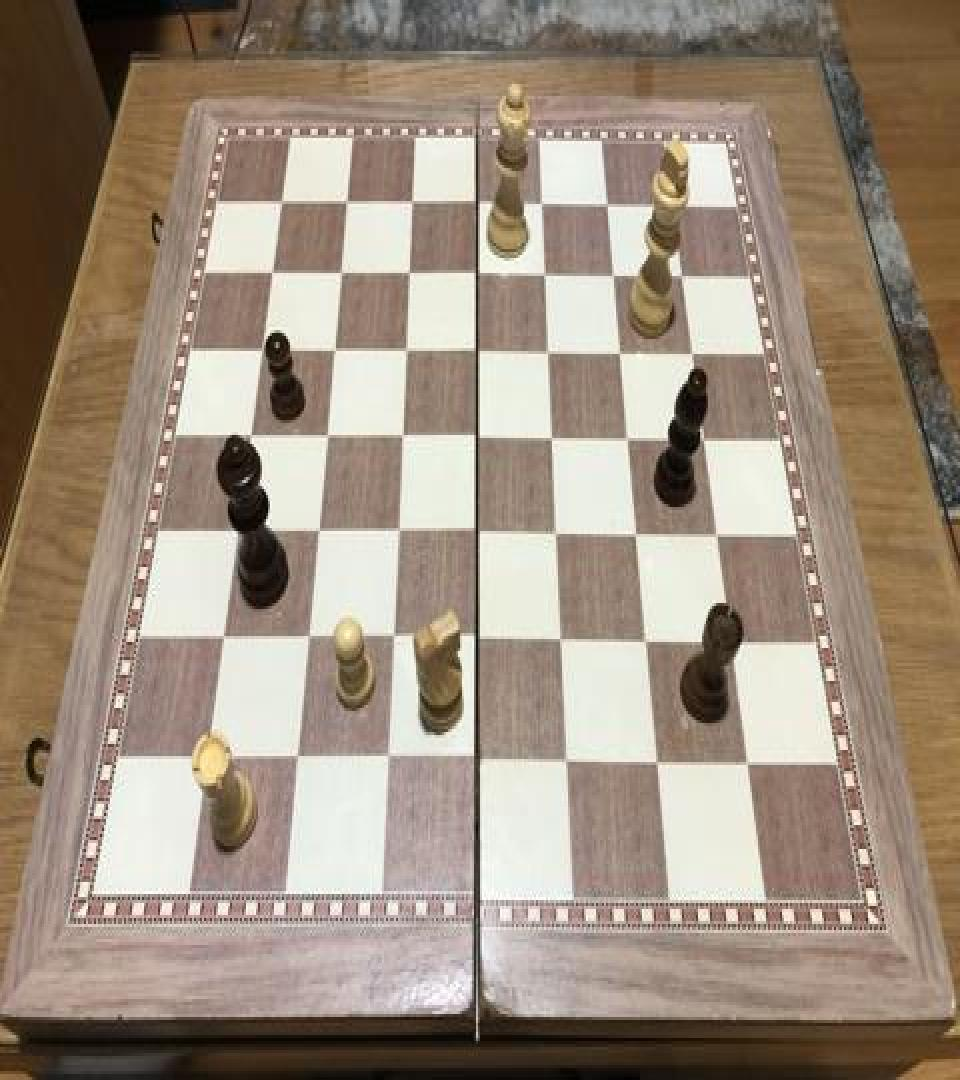xcorner: (304, 514, 328, 551), (636, 625, 660, 662), (550, 625, 574, 662), (379, 622, 403, 659), (738, 748, 762, 785), (373, 742, 397, 779), (193, 739, 217, 776), (663, 189, 687, 225), (335, 186, 359, 222), (270, 186, 294, 222), (604, 258, 628, 294), (534, 258, 558, 294), (466, 258, 490, 294), (397, 256, 421, 292), (328, 256, 352, 292), (260, 256, 284, 292), (683, 338, 707, 374), (610, 336, 634, 372), (538, 336, 562, 372), (465, 334, 489, 370), (393, 334, 417, 370), (321, 334, 345, 370), (249, 333, 273, 369), (695, 423, 719, 459), (618, 423, 642, 459), (541, 422, 565, 458), (465, 422, 489, 458), (389, 420, 413, 456), (313, 420, 337, 456), (238, 418, 262, 454), (707, 519, 731, 555), (626, 519, 650, 555), (545, 518, 569, 554), (465, 516, 489, 552), (384, 516, 408, 552), (224, 513, 248, 549), (722, 627, 746, 663), (464, 624, 488, 660), (294, 621, 318, 657), (210, 620, 234, 656), (646, 747, 670, 783), (555, 746, 579, 782), (464, 744, 488, 780), (283, 741, 307, 777), (597, 188, 621, 223), (531, 188, 555, 223), (466, 188, 490, 223), (400, 188, 424, 223), (673, 260, 697, 295)
